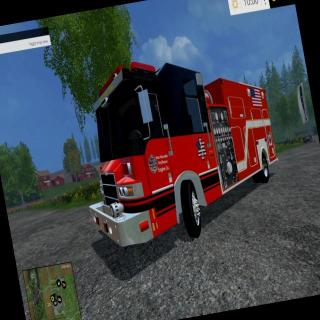Fire_truck: (65, 38, 289, 255)
